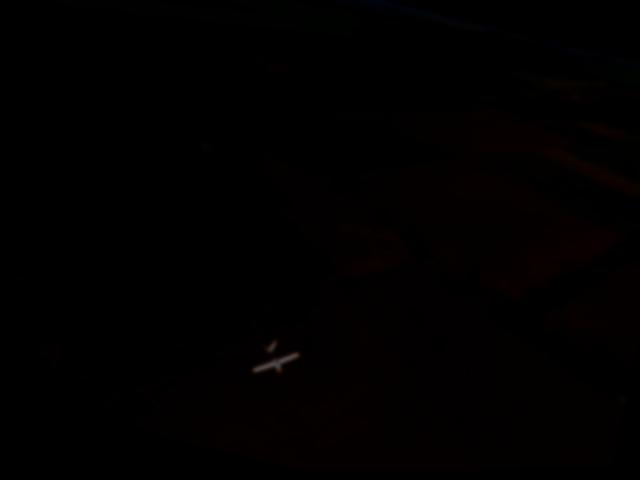uav: (238, 326, 305, 392)
